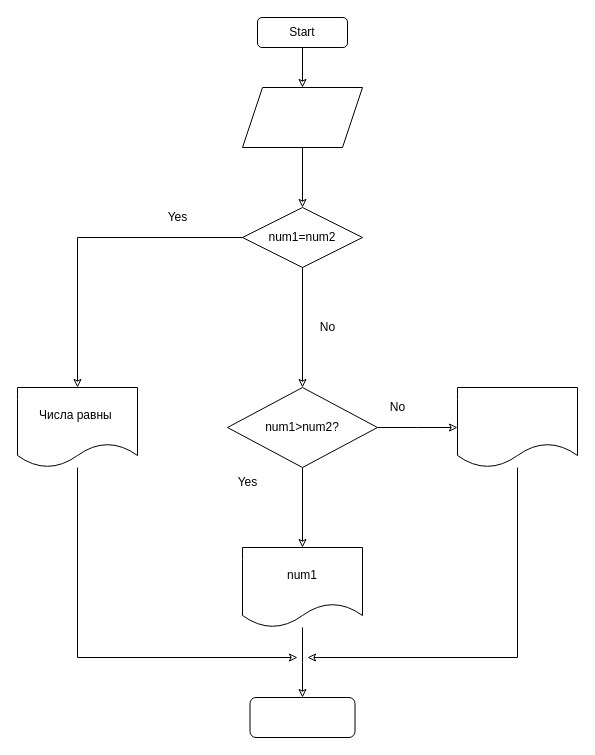
Image size: 595x755. Some labels were removed from this diagram. Here are the shapes that lost their labels. From the top down, the centre of each, then its label:
[302,117]: num1, num2
[517,427]: num2
[302,717]: Finish
